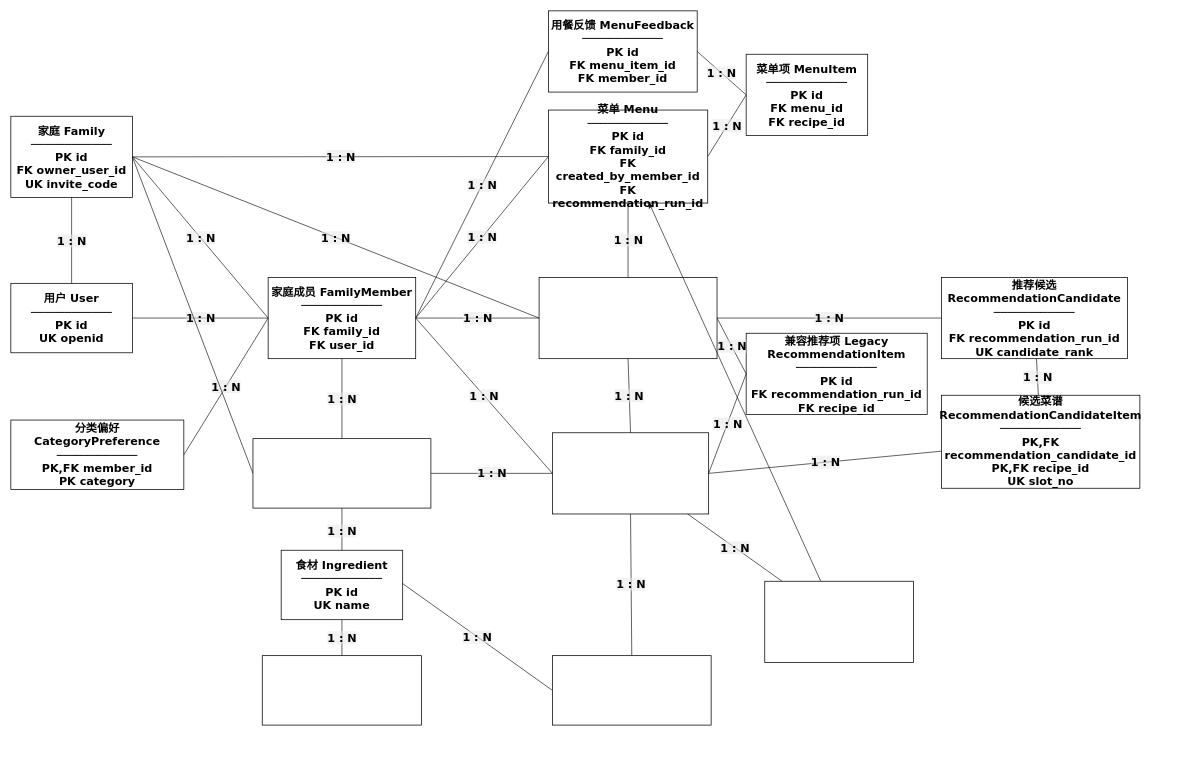
This 1203x772 diagram has some shape labels left out. The centre of each missing label's shape, as x and y in pixels:
"推荐运行 RecommendationRun ──────────── PK id FK family_id FK created_by_member_id" belongs at [627,318].
"菜谱 Recipe ──────────── PK id FK family_id FK created_by_member_id" belongs at [630,473].
"菜谱标签 RecipeTag ──────────── PK,FK recipe_id PK tag_type PK tag_value" belongs at [839,622].
"菜谱食材 RecipeIngredient ──────────── PK,FK recipe_id PK,FK ingredient_id" belongs at [631,690].
"食材季节 IngredientSeason ──────────── PK,FK ingredient_id PK month" belongs at [342,690].
"食材限制 IngredientRestriction ──────────── PK,FK member_id PK,FK ingredient_id" belongs at [341,473].
